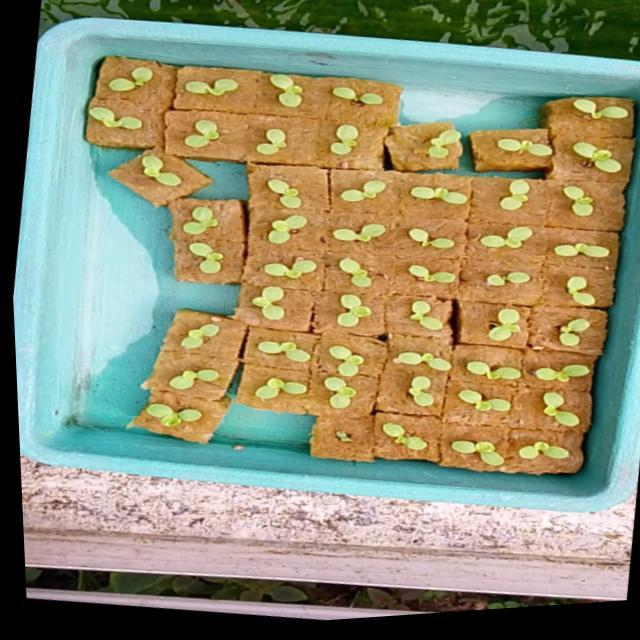Baby: (135, 152, 191, 196), (540, 179, 602, 216), (94, 62, 161, 95), (108, 96, 162, 129), (248, 214, 305, 243), (260, 249, 311, 281), (258, 336, 314, 364), (403, 299, 450, 331), (557, 318, 599, 353), (472, 272, 535, 294), (452, 439, 504, 465), (382, 420, 428, 449), (147, 399, 202, 423), (530, 363, 592, 384), (179, 198, 215, 234), (172, 78, 234, 98), (543, 391, 578, 425), (404, 226, 455, 249), (477, 225, 530, 247), (487, 308, 521, 342), (252, 284, 285, 318), (393, 351, 452, 370), (329, 343, 364, 375), (338, 292, 371, 325), (267, 75, 300, 108), (336, 256, 370, 287), (170, 365, 220, 386), (466, 360, 521, 379), (265, 177, 298, 208), (255, 379, 305, 399), (325, 373, 356, 405), (331, 222, 383, 241), (185, 120, 220, 148), (182, 321, 220, 346), (406, 263, 453, 283), (497, 180, 527, 210), (327, 124, 356, 154), (517, 440, 567, 457), (187, 249, 222, 273), (551, 242, 606, 257), (563, 276, 591, 305), (409, 375, 434, 406), (254, 128, 284, 153), (347, 180, 381, 201), (468, 394, 509, 410)
